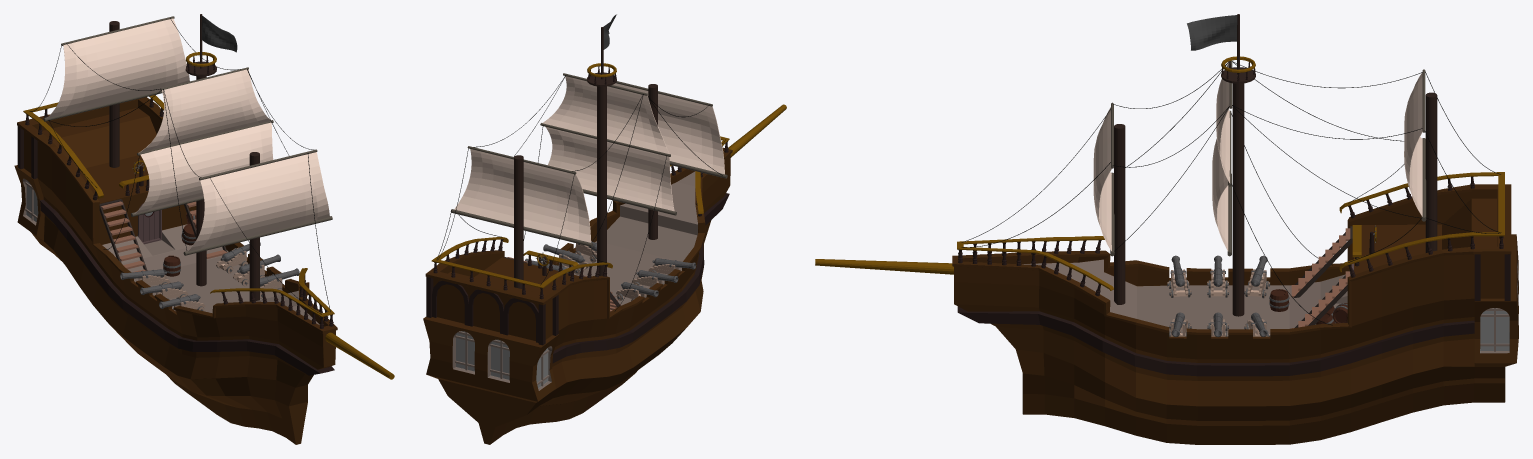
Rendered from brod_1.fbx.
The picture shows the model from 3 angles, left to right: view 1: azimuth 30°, elevation 25°; view 2: azimuth 150°, elevation 25°; view 3: azimuth 270°, elevation 25°; orthographic projection. The views are drawn at different scales.
Parts seen in each view (by area): view 1: Cube, Plane, Plane.003, Plane.001, Plane.002, Cube.014, Cube.001, Cube.010, Cylinder.020, Cylinder.036, Cylinder.003, Cylinder.037 (+12 smaller); view 2: Cube, Plane.003, Plane.001, Plane.002, Plane, Cube.014, Cylinder.003, Cube.001, Cube.013, Cylinder.001, Cylinder.036, Cube.012 (+8 smaller); view 3: Cube, Cube.014, Cylinder.003, Cube.001, Cylinder.002, Plane.003, Plane, Cylinder.001, Plane.004, Cylinder.004, Cube.010, Plane.001 (+7 smaller).
Part boxes in pixels (x1=…): Cube: x1=14, y1=97, x2=337, y2=444; Plane: x1=187, y1=152, x2=329, y2=251; Plane.003: x1=47, y1=18, x2=189, y2=118; Plane.001: x1=134, y1=122, x2=273, y2=213; Plane.002: x1=139, y1=69, x2=271, y2=152; Cube.014: x1=40, y1=199, x2=334, y2=375; Cube.001: x1=23, y1=95, x2=334, y2=317; Cube.010: x1=101, y1=201, x2=227, y2=272; Cylinder.020: x1=120, y1=242, x2=260, y2=285; Cylinder.036: x1=140, y1=254, x2=280, y2=299; Cylinder.003: x1=185, y1=61, x2=216, y2=286; Cylinder.037: x1=159, y1=268, x2=299, y2=311; Cube: x1=423, y1=147, x2=732, y2=444; Plane.003: x1=454, y1=149, x2=591, y2=242; Plane.001: x1=545, y1=126, x2=674, y2=211; Plane.002: x1=542, y1=76, x2=669, y2=153; Plane: x1=613, y1=83, x2=724, y2=174; Cube.014: x1=552, y1=193, x2=729, y2=363; Cylinder.003: x1=587, y1=72, x2=616, y2=275; Cube.001: x1=431, y1=136, x2=729, y2=288; Cube.013: x1=432, y1=280, x2=538, y2=342; Cylinder.001: x1=514, y1=155, x2=523, y2=289; Cylinder.036: x1=543, y1=244, x2=678, y2=287; Cube.012: x1=426, y1=277, x2=558, y2=345; Cube: x1=952, y1=184, x2=1518, y2=444; Cube.014: x1=957, y1=306, x2=1474, y2=376; Cylinder.003: x1=1221, y1=67, x2=1255, y2=316; Cube.001: x1=957, y1=172, x2=1504, y2=290; Cylinder.002: x1=1114, y1=124, x2=1125, y2=304; Plane.003: x1=1404, y1=72, x2=1422, y2=216; Plane: x1=1093, y1=107, x2=1111, y2=251; Cylinder.001: x1=1425, y1=92, x2=1437, y2=252; Plane.004: x1=1187, y1=15, x2=1237, y2=50; Cylinder.004: x1=815, y1=259, x2=953, y2=274; Cube.010: x1=1291, y1=228, x2=1350, y2=328; Plane.001: x1=1212, y1=138, x2=1228, y2=251.
Bounding box in the file's own units: 1271 × 3189 × 4746.
